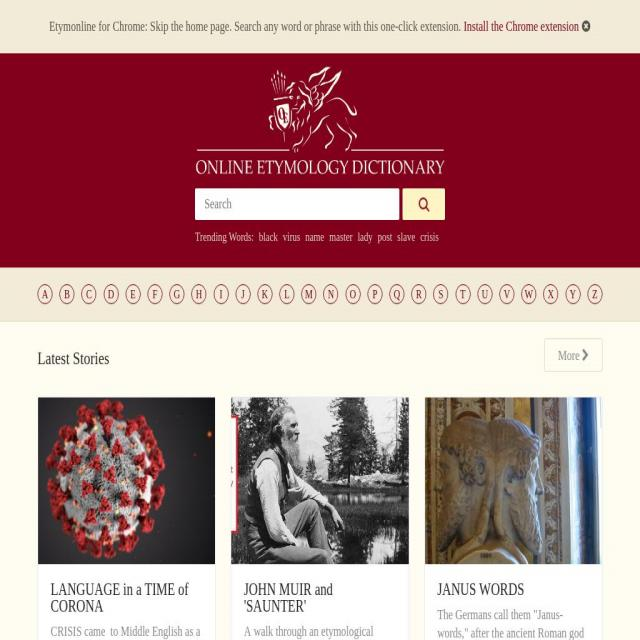navigation-blocks: (30, 386, 606, 640)
search: (185, 179, 456, 246)
